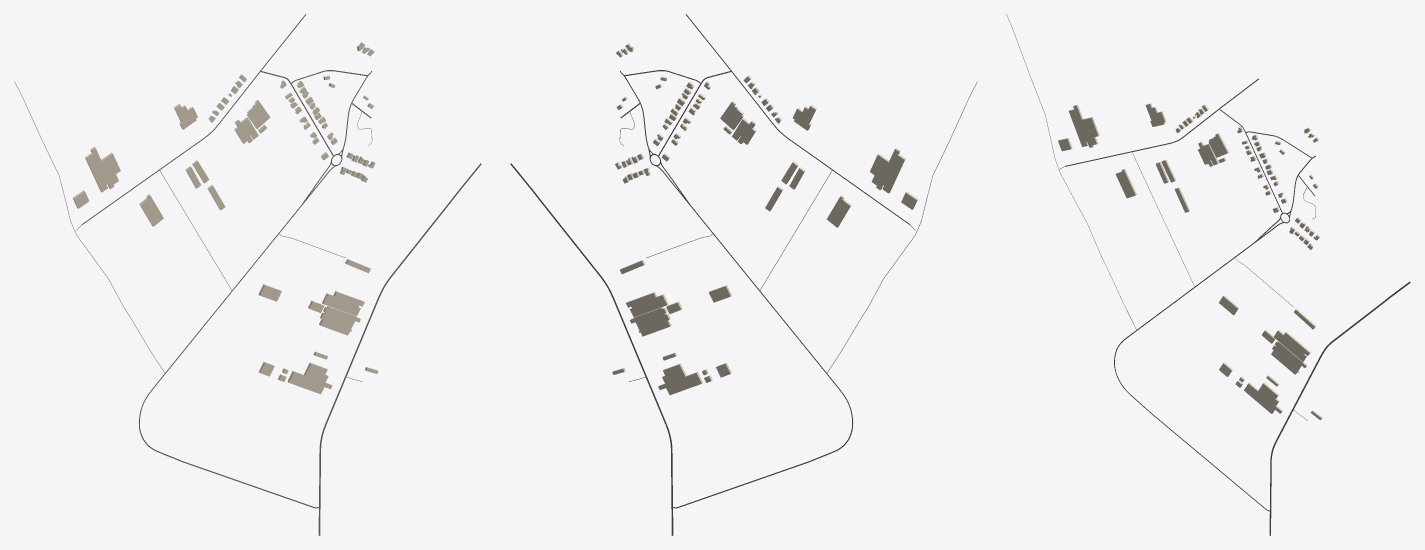
File: historic-palestine-04_19_3455_3132.glb
3 views of the same model, side by side, from view 1: azimuth 30°, elevation 25°; view 2: azimuth 150°, elevation 25°; view 3: azimuth 330°, elevation 25° (orthographic). The views are drawn at different scales.
Visible parts, largest first — view 1: Building_.043, Road HaGefen, Building_.001, Road .009, Building_.009, Building_.007; view 2: Building_.043, Road HaGefen, Building_.001, Road .009, Building_.009, Building_.007; view 3: Building_.043, Road HaGefen, Building_.001, Road .009, Building_.009, Building_.007.
Part boxes in pixels (x1,y1,x2,y2): Building_.043: (85,147,120,192); Road HaGefen: (318,163,481,535); Building_.001: (287,363,332,394); Road .009: (138,206,318,508); Building_.009: (319,306,360,335); Building_.007: (322,291,364,316); Building_.043: (870,148,905,193); Road HaGefen: (510,163,673,535); Building_.001: (658,363,702,395); Road .009: (673,206,853,508); Building_.009: (630,307,671,336); Building_.007: (626,292,668,316); Building_.043: (1068,105,1099,147); Road HaGefen: (1269,281,1410,535); Building_.001: (1244,382,1282,413); Road .009: (1114,242,1269,511); Building_.009: (1271,340,1306,374); Building_.007: (1274,330,1310,361).
Size of the model in its own units: 1474 by 1593 by 9.09.
